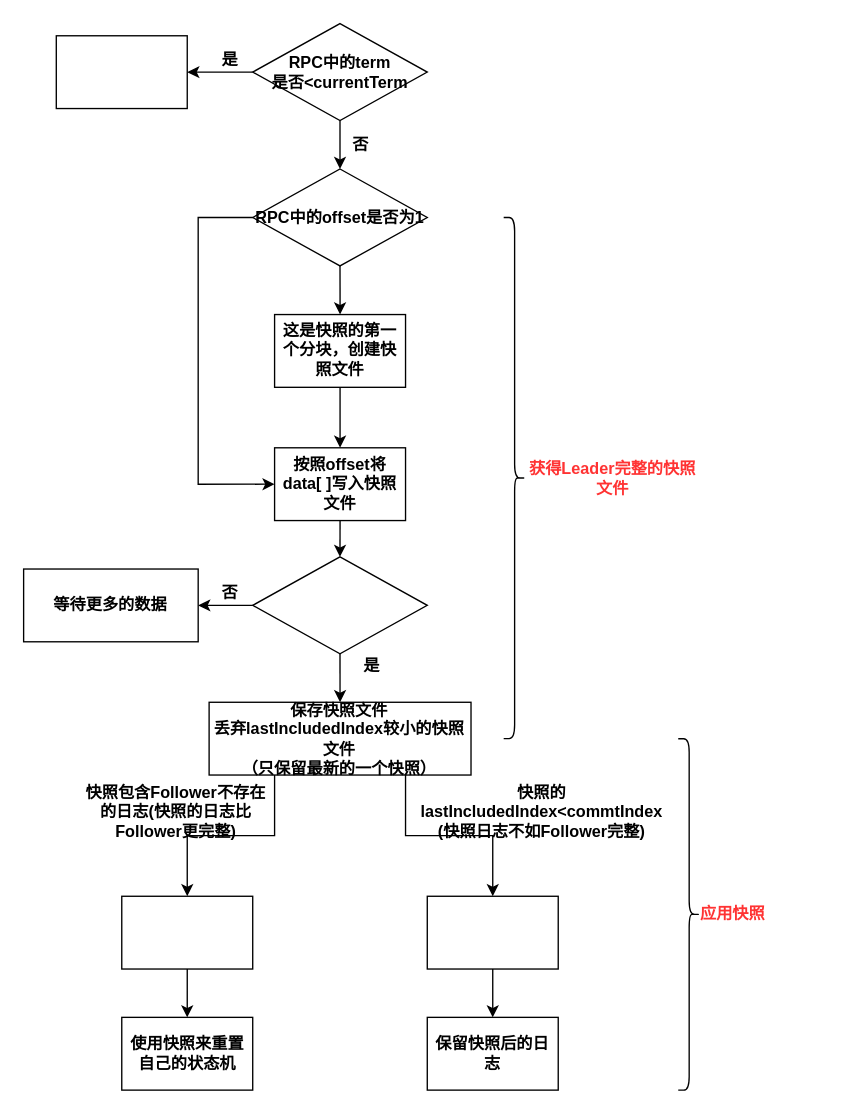
Image size: 844x1114. Some labels were removed from this diagram. The centre of each missing label's shape, as x and y in pixels:
"RPC中的done是否为true" belongs at (x=339, y=605).
"丢弃掉快照包含的日志" belongs at (x=492, y=932).
"丢弃自己所有的日志" belongs at (x=186, y=932).
"拒绝消息" belongs at (x=121, y=71).
